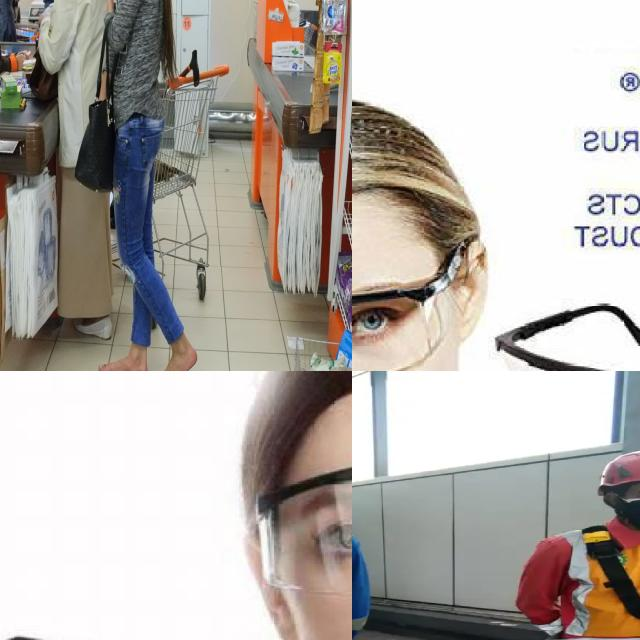Barefoots: (151, 344, 197, 371), (98, 356, 147, 371)
Harness: (541, 524, 640, 640)
glasses: (252, 453, 352, 599), (352, 261, 470, 371), (487, 288, 640, 371)
head_nohelmet: (352, 92, 432, 237)
